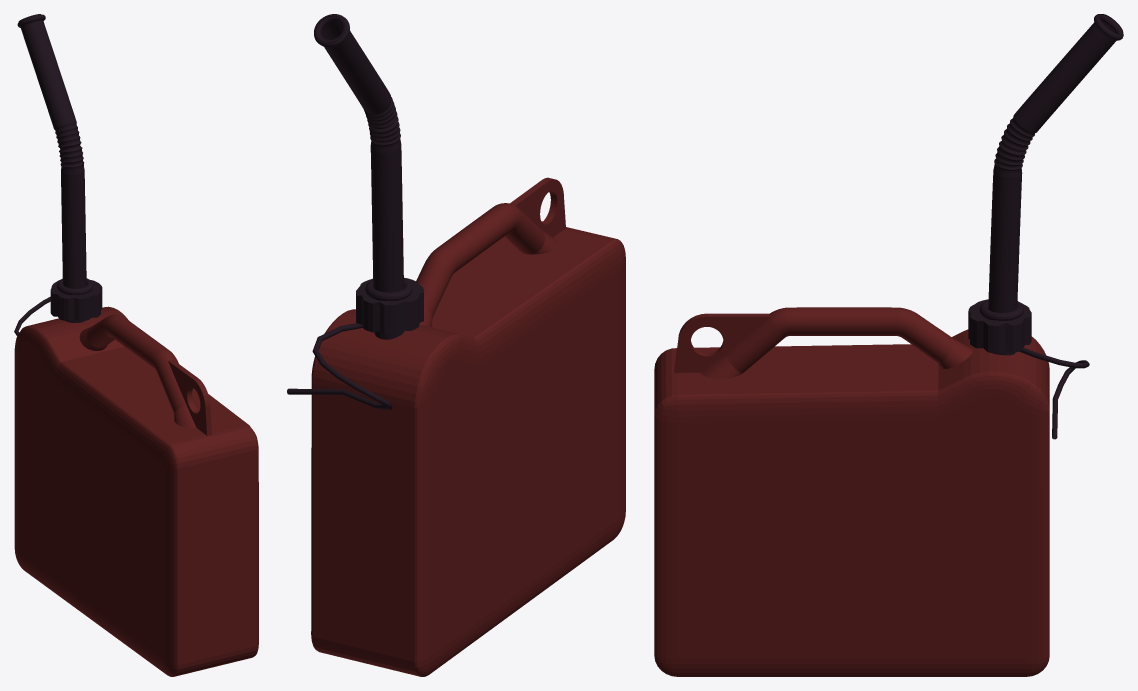
The model's file is jericane_avec_textures_.fbx.
3 renders of one model, left to right at view 1: azimuth 30°, elevation 25°; view 2: azimuth 150°, elevation 25°; view 3: azimuth 270°, elevation 25°, orthographic. The views are drawn at different scales.
Visible parts, largest first — view 1: Cube, Plane.002, Plane, Cylinder, Plane.001; view 2: Cube, Plane.002, Plane, Cylinder, Plane.001, BézierCurve, Torus.001, Torus; view 3: Cube, Plane.002, Plane, Plane.001, Cylinder, BézierCurve.
Boxes of the visible parts, x1=… form: Cube: x1=14, y1=306, x2=258, y2=676; Plane.002: x1=18, y1=14, x2=86, y2=322; Plane: x1=79, y1=314, x2=199, y2=427; Cylinder: x1=50, y1=279, x2=102, y2=321; Plane.001: x1=168, y1=360, x2=212, y2=435; Cube: x1=311, y1=221, x2=625, y2=676; Plane.002: x1=316, y1=15, x2=404, y2=339; Plane: x1=416, y1=203, x2=558, y2=326; Cylinder: x1=356, y1=277, x2=423, y2=334; Plane.001: x1=510, y1=177, x2=565, y2=237; BézierCurve: x1=287, y1=323, x2=392, y2=409; Torus.001: x1=314, y1=14, x2=349, y2=47; Torus: x1=365, y1=279, x2=412, y2=300; Cube: x1=654, y1=329, x2=1049, y2=676; Plane.002: x1=988, y1=14, x2=1123, y2=355; Plane: x1=700, y1=307, x2=972, y2=378; Plane.001: x1=674, y1=313, x2=769, y2=372; Cylinder: x1=968, y1=299, x2=1031, y2=353; BézierCurve: x1=1019, y1=347, x2=1089, y2=439.
Size of the model in its own units: 47 by 232 by 155.
